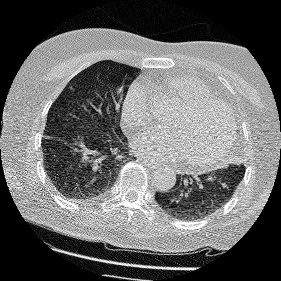PN: (222, 183, 226, 187)
